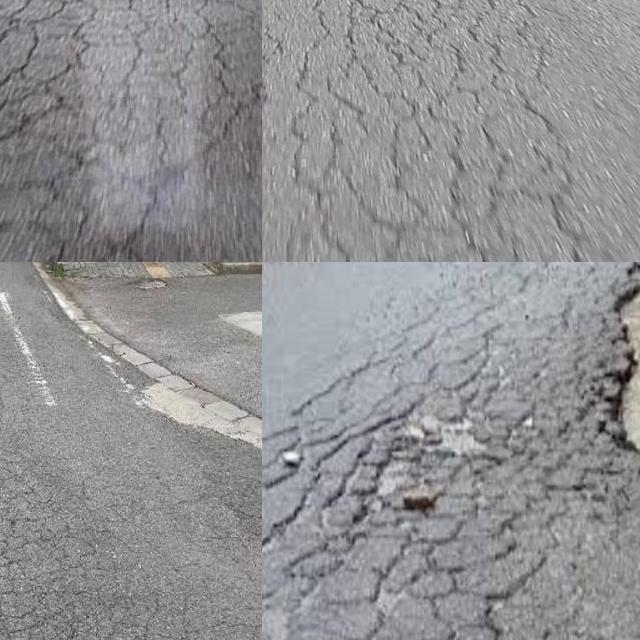Retak Buaya: (262, 283, 563, 640), (262, 0, 597, 262), (0, 0, 262, 262), (0, 402, 208, 640)
